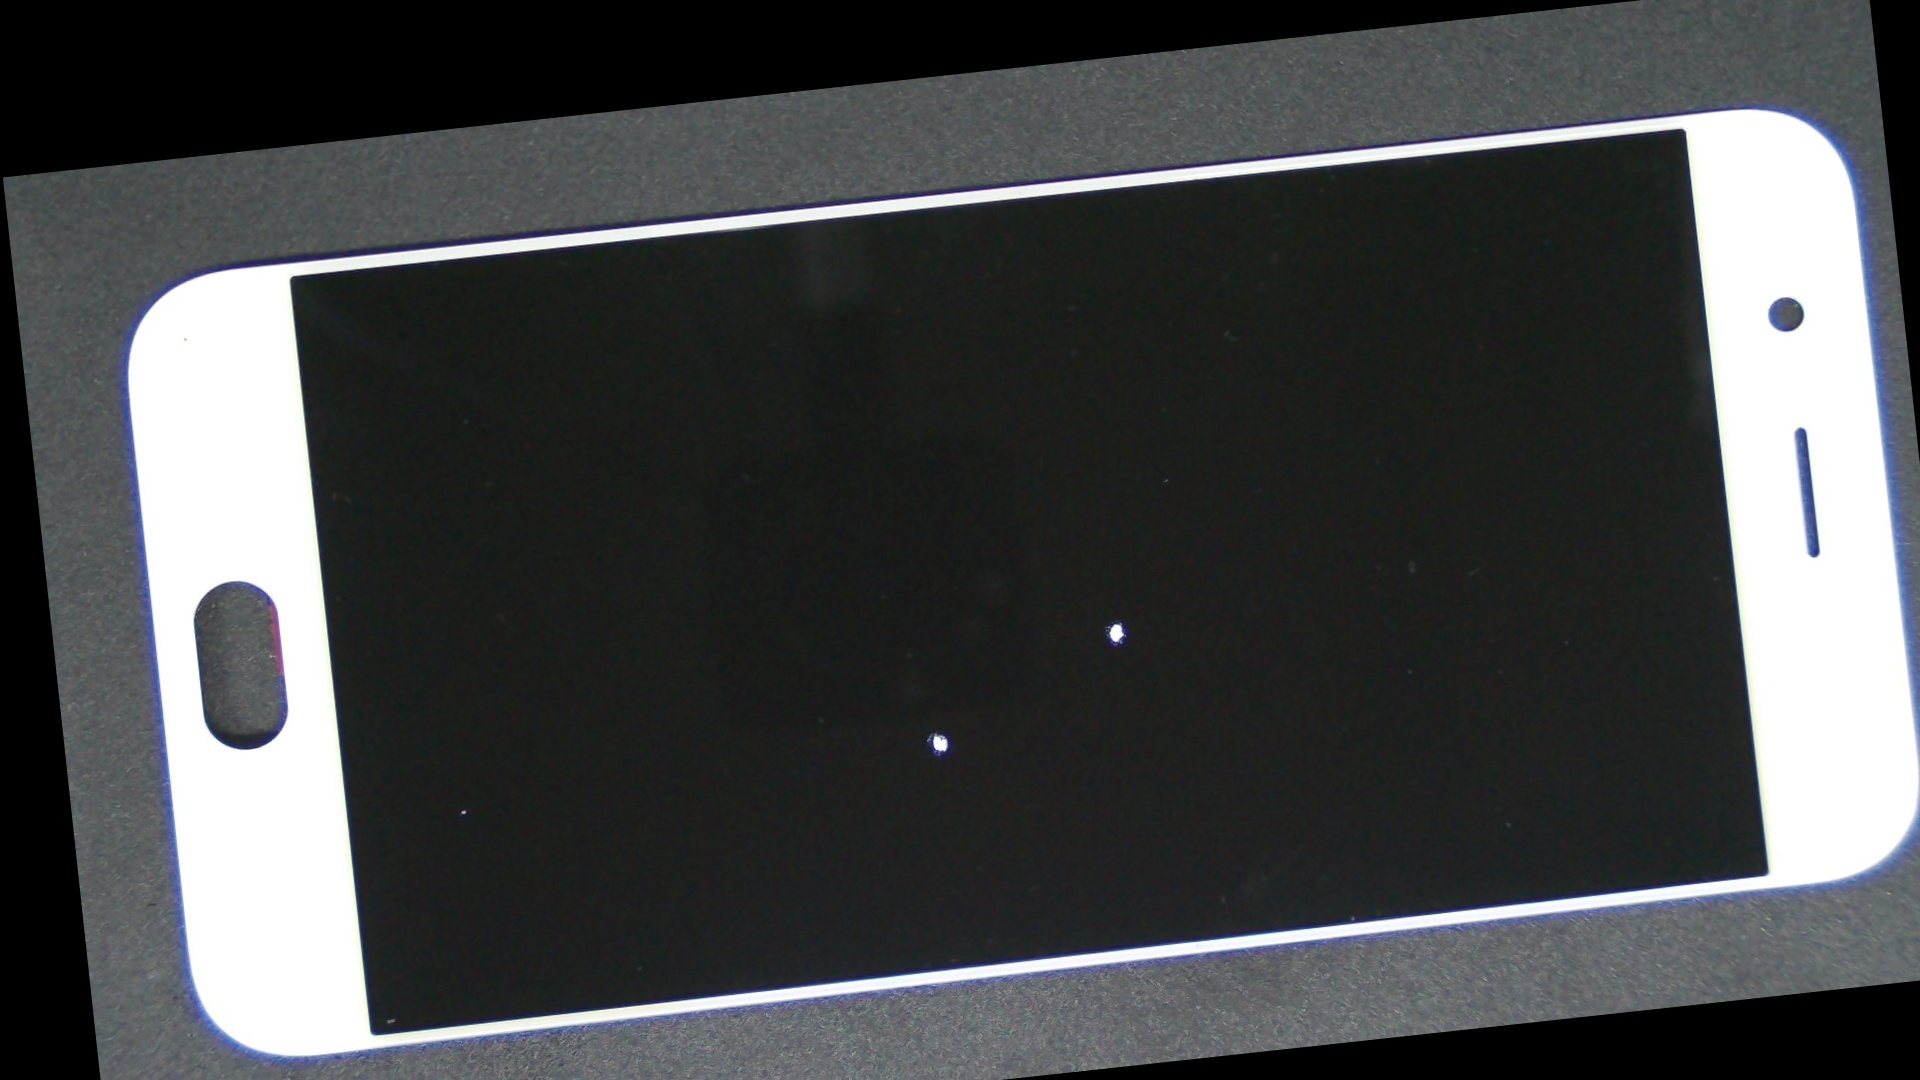oil: (560, 284, 1676, 953), (471, 360, 1403, 1080)
